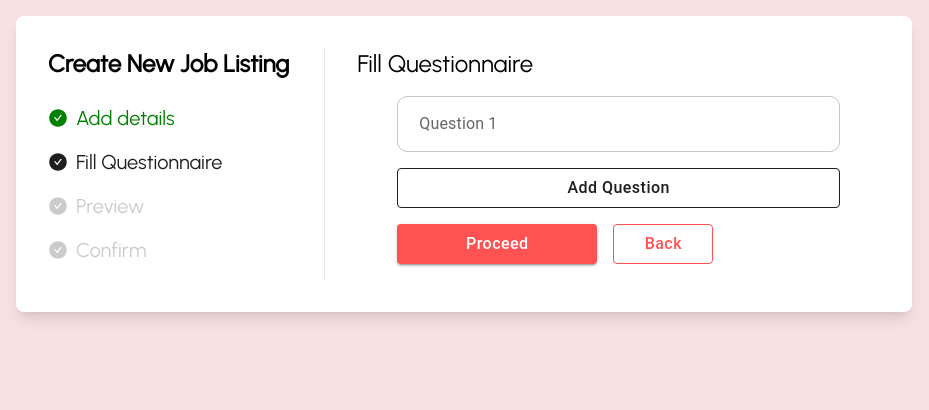
Test case: JobQuestionnaire Component › removes a question field when 'Delete' button is clicked
Add a question to ensure we have more than one
Click the button "Add Question": (619, 188) 397,168 -> 840,208
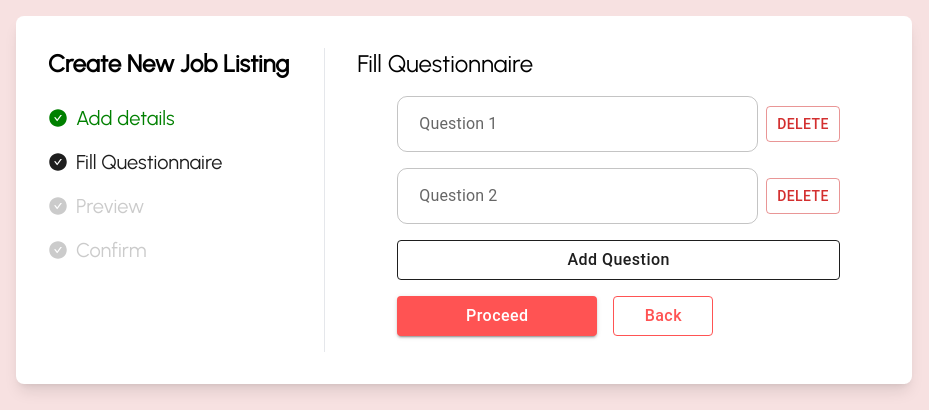
Click the button "Delete" in the row of "Question 2": (803, 196) 766,178 -> 840,214
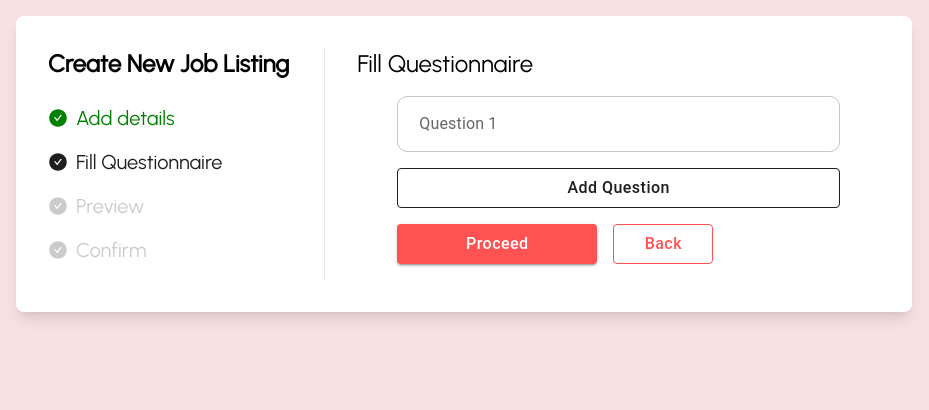
expect the label labelled "Question 2" is gone: met
